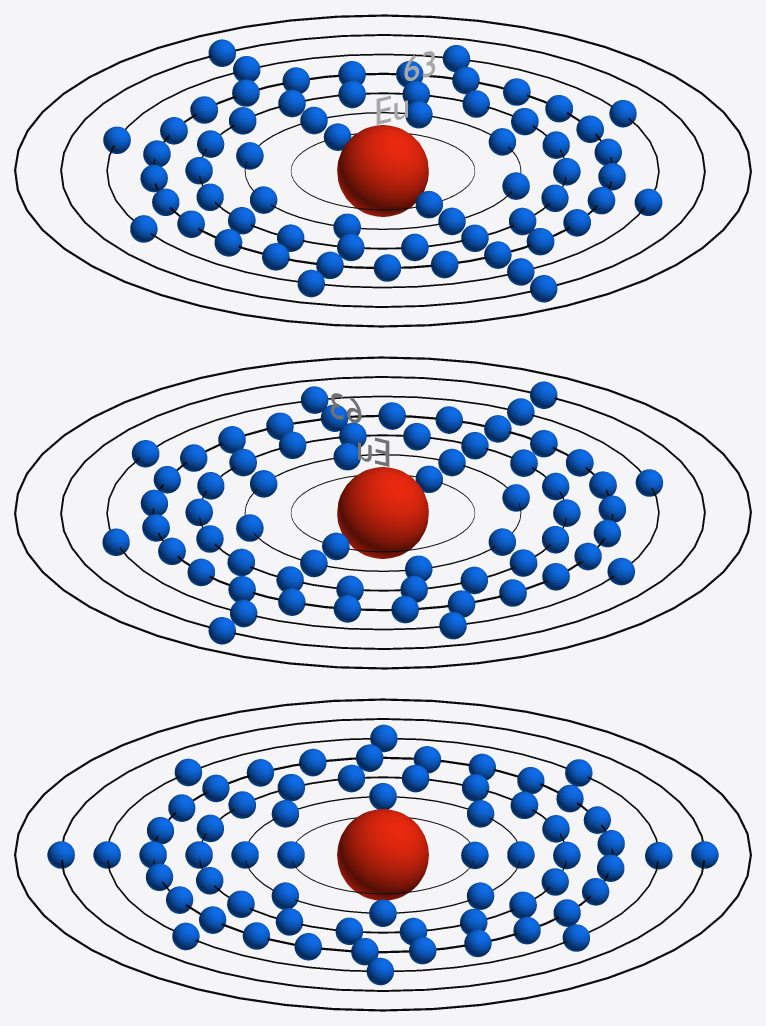
3 renders of one model, top to bottom at view 1: azimuth 30°, elevation 25°; view 2: azimuth 150°, elevation 25°; view 3: azimuth 270°, elevation 25°, orthographic.
Parts seen in each view (by area): view 1: Eu4, Eu3, Proton, Eu5, Eu2, n7, n6, n5, n4, Eu6, Eu1, n3 (+1 smaller); view 2: Eu4, Eu3, Proton, Eu5, Eu2, n7, n6, n5, n4, Eu6, Eu1, n3 (+1 smaller); view 3: Eu4, Eu3, Proton, Eu2, Eu5, n7, n6, n5, n4, Eu1, Eu6, n3 (+2 smaller).
Part boxes in pixels (<box>): Eu4: <box>140,61,625,281</box>; Eu3: <box>185,80,580,261</box>; Proton: <box>337,125,428,216</box>; Eu5: <box>103,45,662,297</box>; Eu2: <box>236,101,529,238</box>; n7: <box>14,14,751,327</box>; n6: <box>60,34,705,307</box>; n5: <box>106,53,659,288</box>; n4: <box>153,72,612,268</box>; Eu6: <box>208,39,557,302</box>; Eu1: <box>323,123,442,218</box>; n3: <box>199,92,566,249</box>; Eu4: <box>140,402,625,623</box>; Eu3: <box>185,422,580,602</box>; Proton: <box>337,467,428,558</box>; Eu5: <box>102,386,663,639</box>; Eu2: <box>236,443,529,580</box>; n7: <box>14,356,751,669</box>; n6: <box>60,376,705,649</box>; n5: <box>106,395,659,630</box>; n4: <box>152,414,613,611</box>; Eu6: <box>208,381,557,644</box>; Eu1: <box>322,465,442,560</box>; n3: <box>199,434,566,591</box>; Eu4: <box>139,744,624,965</box>; Eu3: <box>185,764,580,944</box>; Proton: <box>337,809,428,900</box>; Eu2: <box>231,783,534,926</box>; Eu5: <box>93,724,672,985</box>; n7: <box>14,698,751,1011</box>; n6: <box>61,718,704,991</box>; n5: <box>107,738,658,971</box>; n4: <box>153,756,613,953</box>; Eu1: <box>277,841,488,869</box>; Eu6: <box>47,841,718,868</box>; n3: <box>199,776,566,933</box>.
Bounding box in the file's own units: 802 × 180 × 802.
